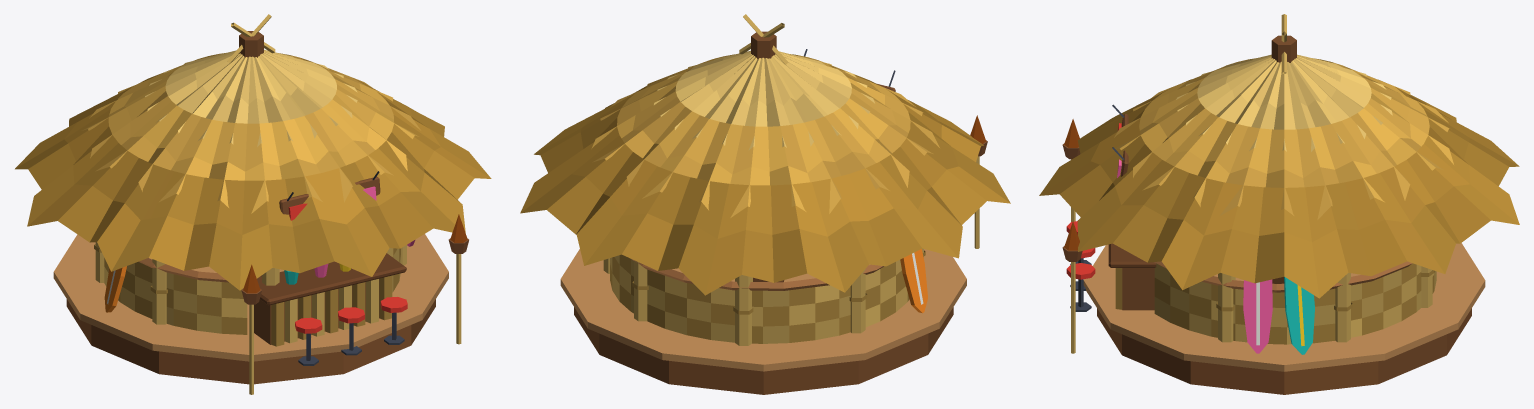
The model's file is hut.glb.
The picture shows the model from 3 angles, left to right: view 1: azimuth 30°, elevation 25°; view 2: azimuth 150°, elevation 25°; view 3: azimuth 270°, elevation 25°; orthographic projection. The views are drawn at different scales.
Visible parts, largest first — view 1: hut; view 2: hut; view 3: hut.
Boxes of the visible parts, left/top/right/bottom form: hut: left=15, top=14, right=491, bottom=394; hut: left=520, top=14, right=1010, bottom=394; hut: left=1039, top=14, right=1519, bottom=394.
Bounding box in the file's own units: 9.19 × 6.12 × 9.1.
Materials: 2 (2 with a texture image).
